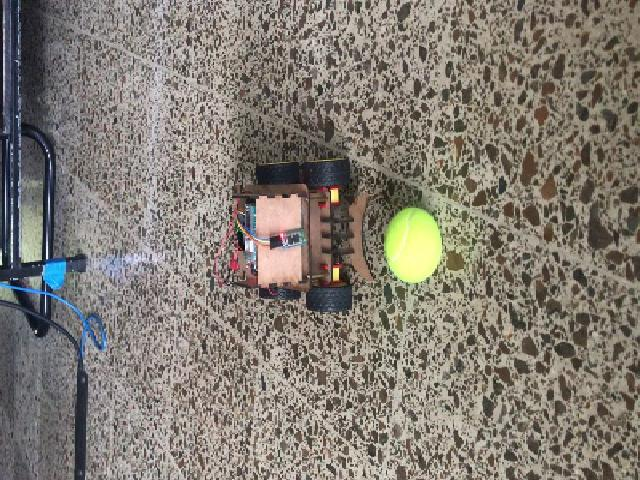Ball: (381, 208, 443, 283)
Robot: (229, 158, 371, 312)
